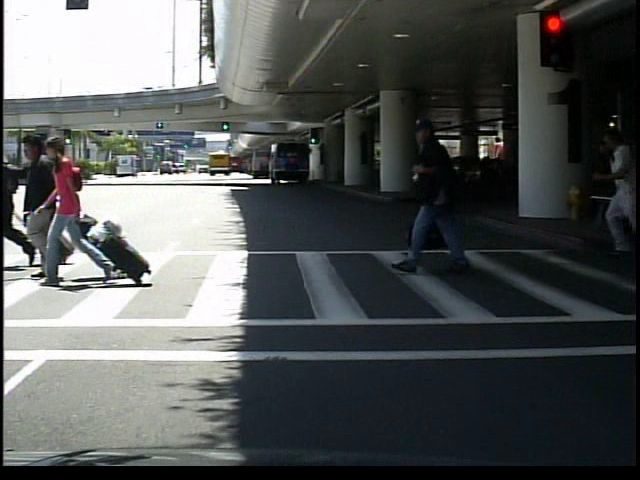person: (394, 112, 486, 275)
